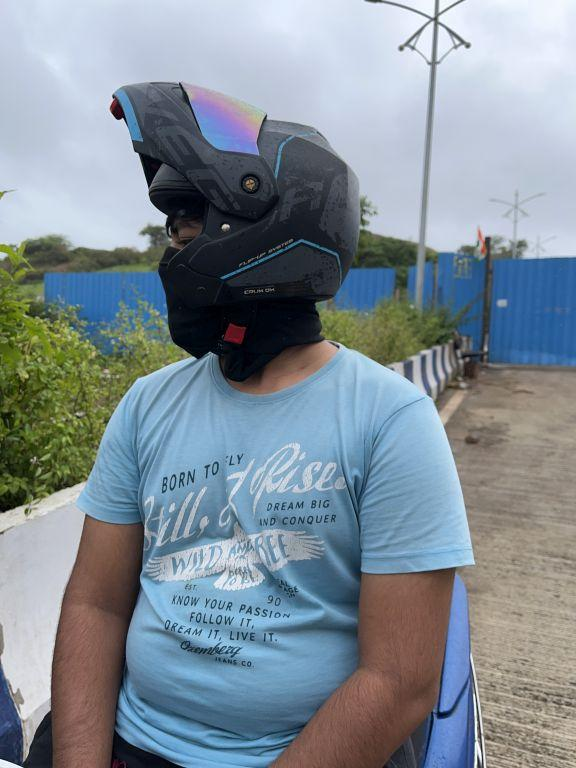helmet: (100, 69, 376, 378)
